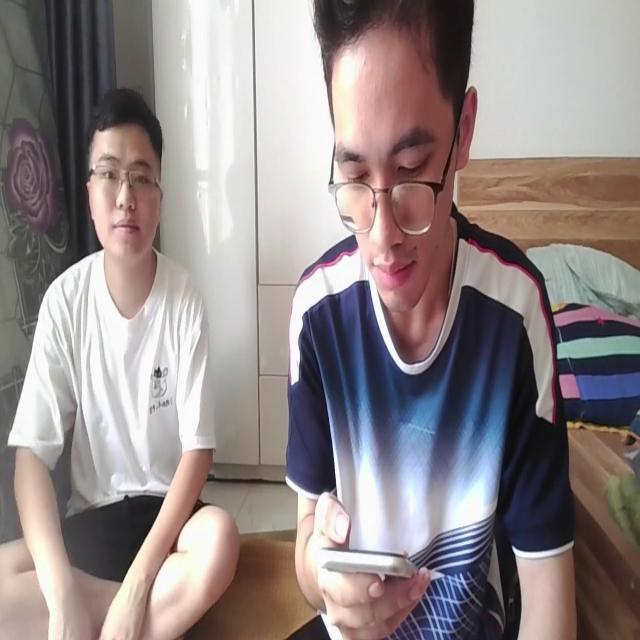extra_person: (1, 77, 245, 640)
phone: (314, 539, 419, 579)
student: (282, 0, 578, 640)
